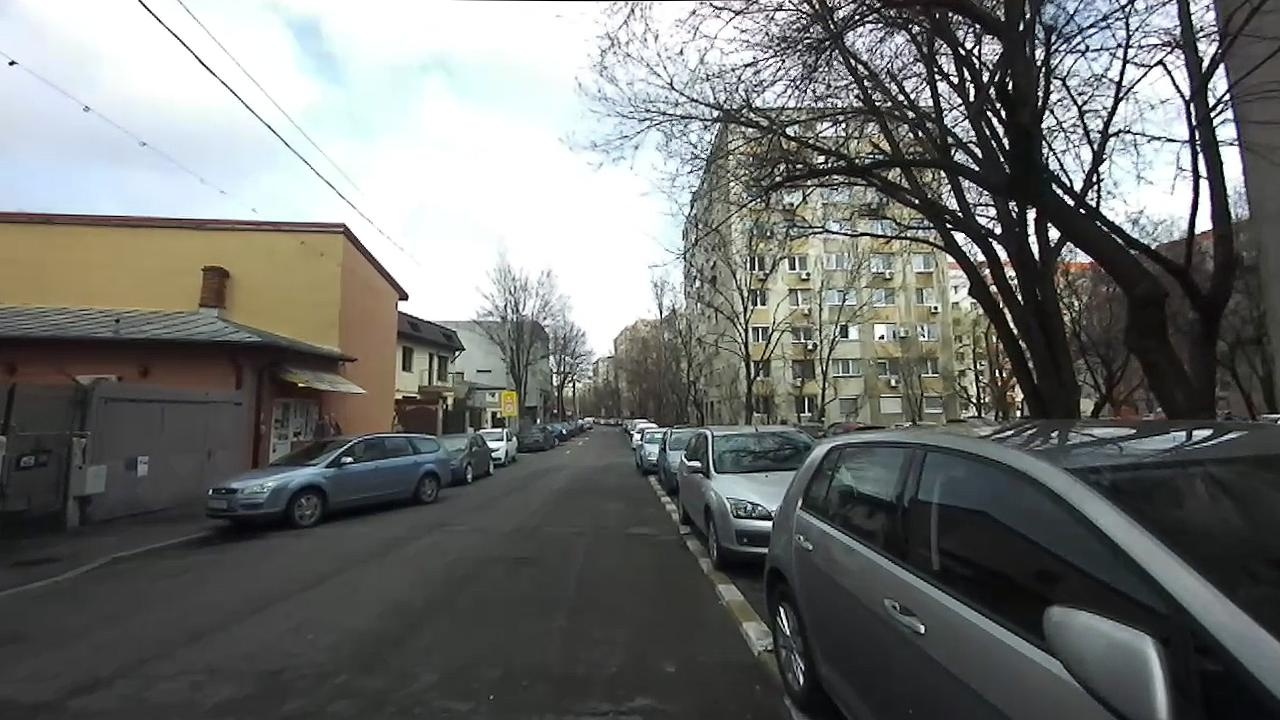pothole: (552, 692, 665, 719)
